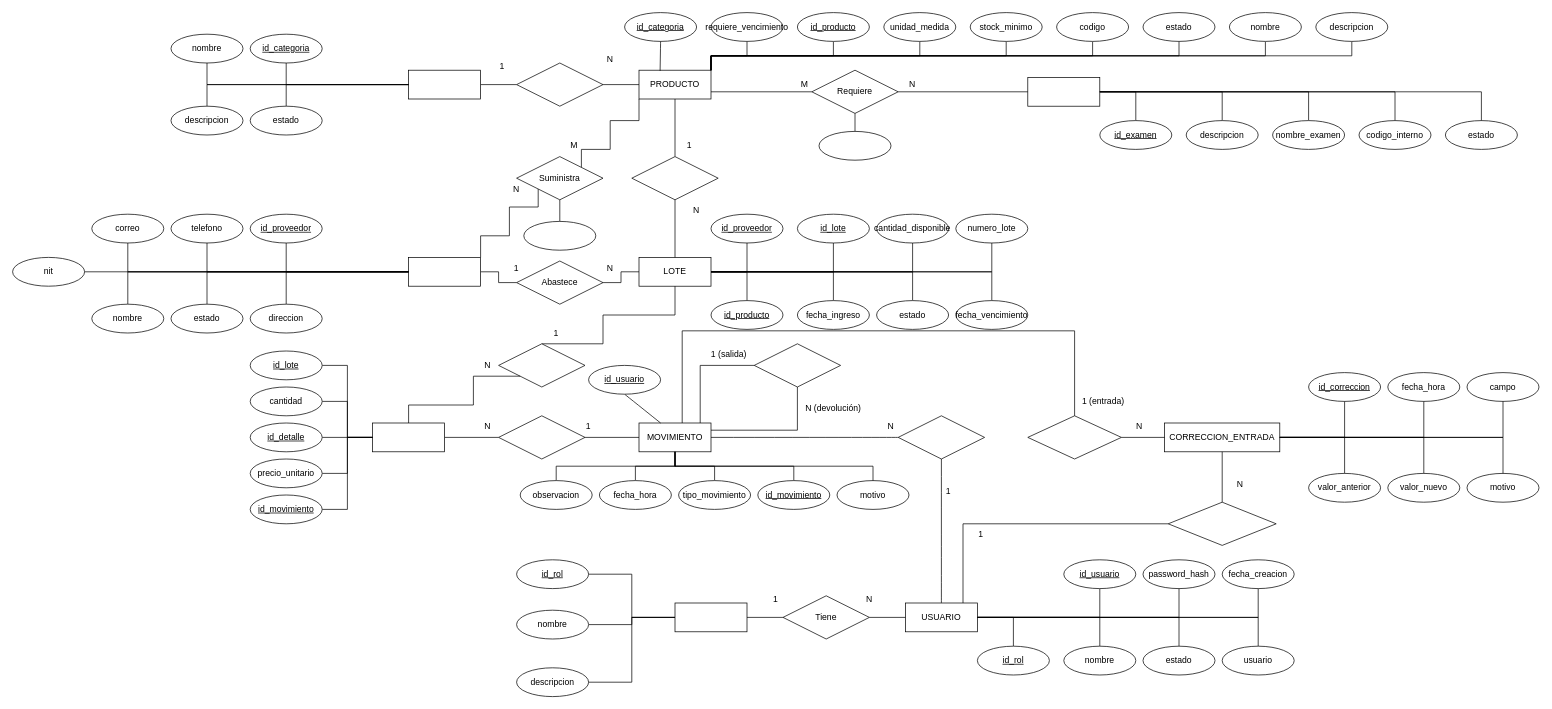
This 1552x709 diagram has some shape labels left out. The centre of each missing label's shape, as x and y in pixels:
"Afecta" belongs at point (541, 365).
"cantidad_requerida" belongs at point (854, 145).
"CATEGORIA" belongs at point (444, 84).
"Clasifica" belongs at point (559, 84).
"Corrige" belongs at point (797, 365).
"Corrige_Entrada" belongs at point (1074, 437).
"DETALLE_MOVIMIENTO" belongs at point (408, 437).
"EXAMEN_LABORATORIO" belongs at point (1063, 91).
"Posee" belongs at point (674, 178).
"precio_compra" belongs at point (559, 235).
"PROVEEDOR" belongs at point (444, 271).
"Registra" belongs at point (941, 437).
"Registra_Correccion" belongs at point (1221, 523).
"Registra_Detalle" belongs at point (541, 437).
"ROL" belongs at point (710, 617).
